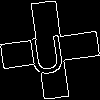U: (25, 25, 68, 76)
